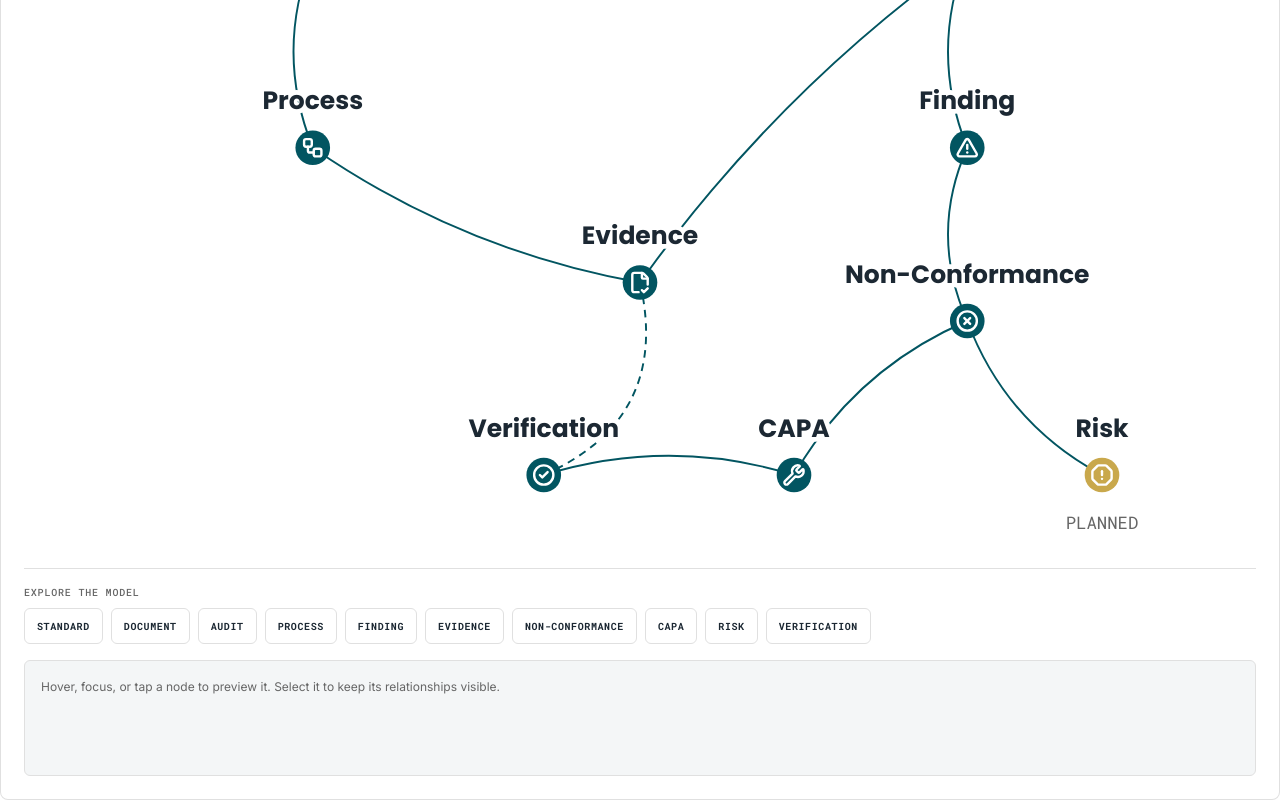
Scenario: interactive product illustrations › lets touch and keyboard users lock a quality-graph node and inspect its relationships
Later steps or results of the test are not shown.
(page scrolled)
Click the button with test id "graph-control-capa" at (671, 626), box [645,608,697,644]
(page scrolled)
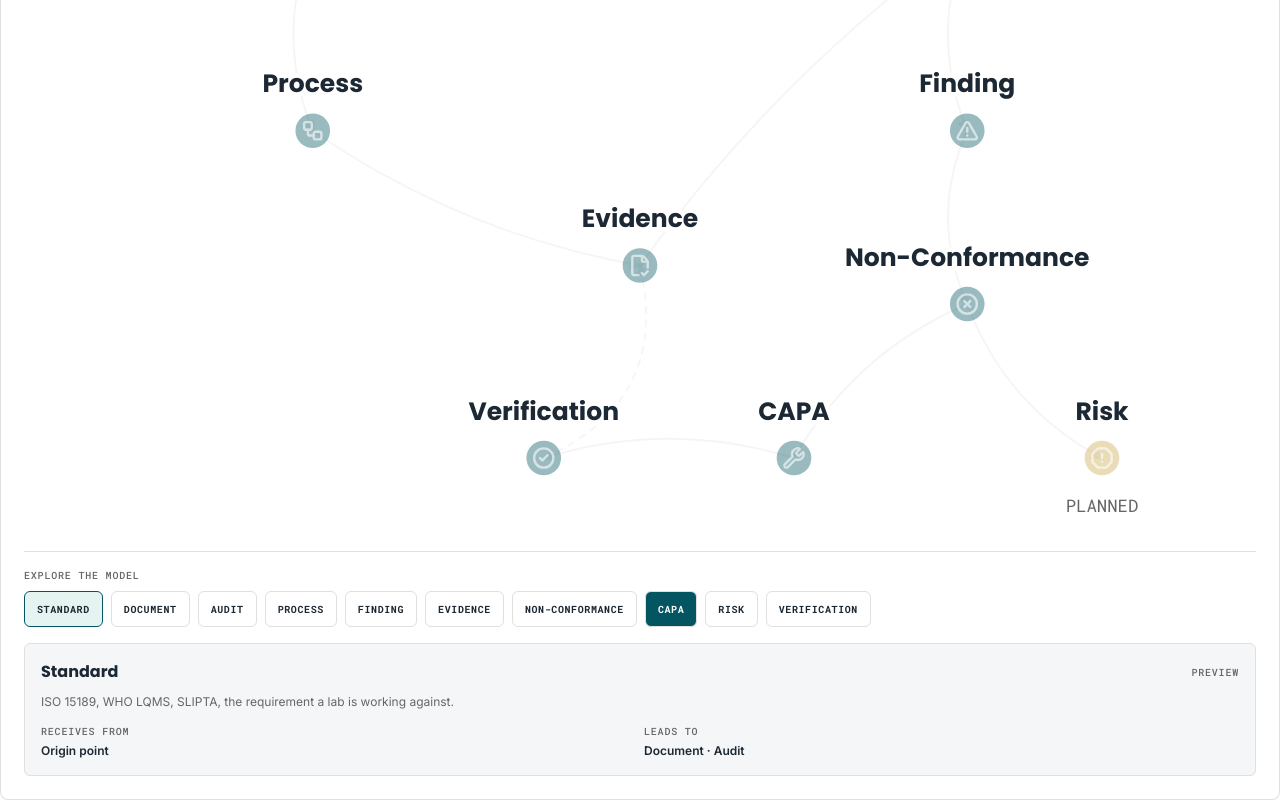
Expected: the text "CAPA" is shown, [41,660,118,684]
